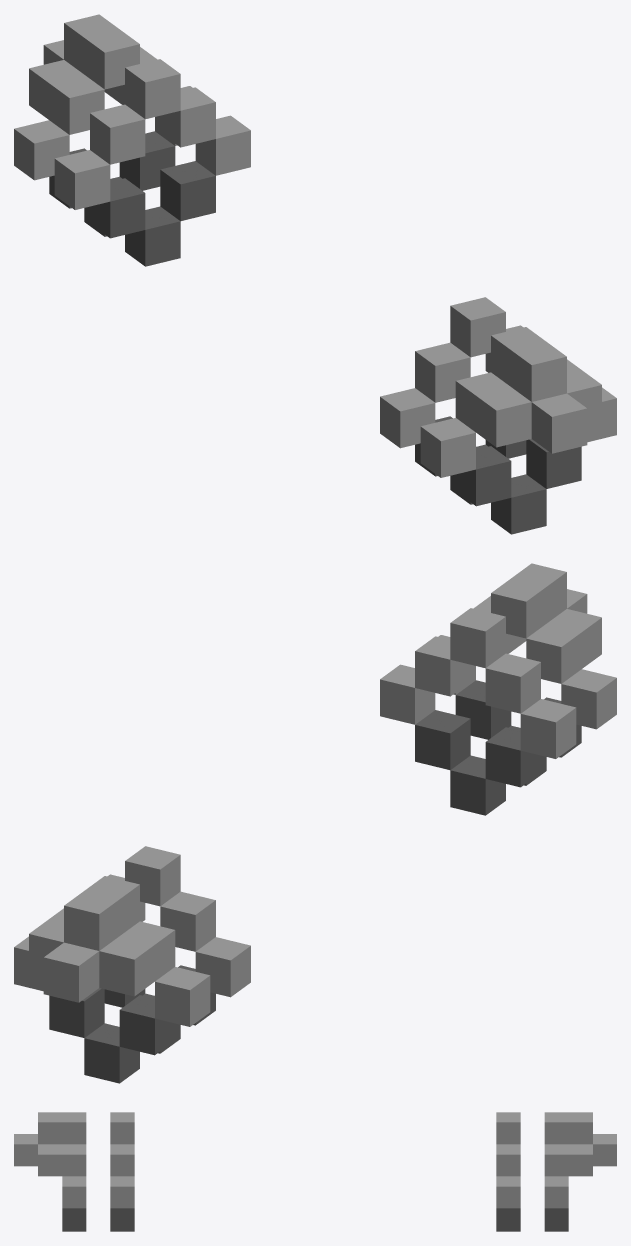
Rendered from Brazo Gato.obj.
The picture shows the model from 3 angles, top to bottom: view 1: azimuth 30°, elevation 25°; view 2: azimuth 150°, elevation 25°; view 3: azimuth 270°, elevation 25°; orthographic projection. The views are drawn at different scales.
Bounding box in the file's own units: 0.5 × 0.5 × 2.5.
